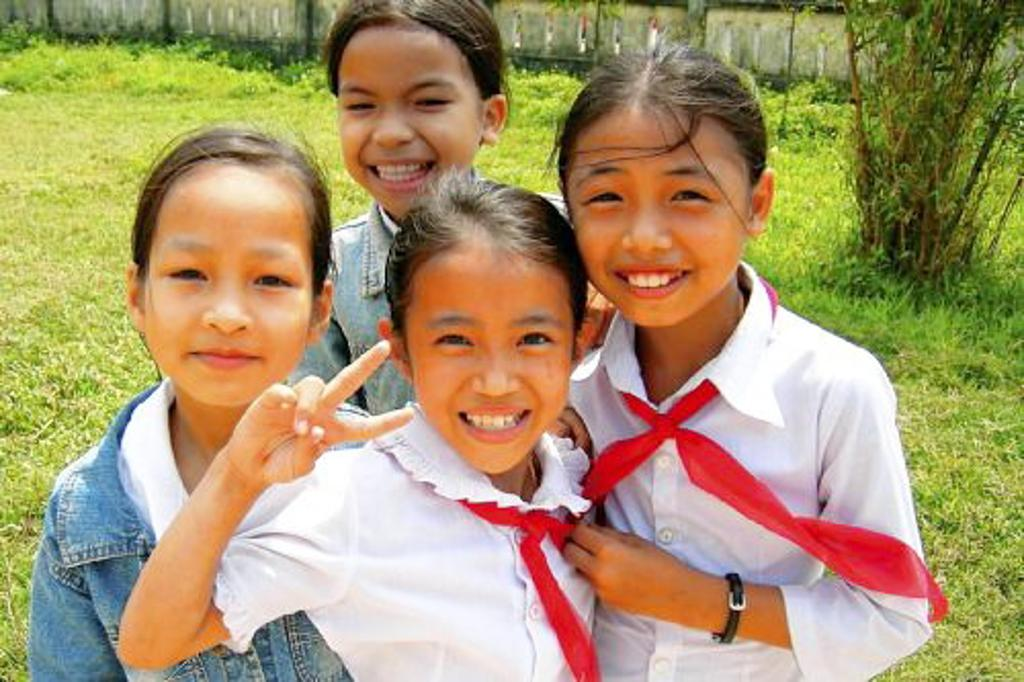face: (148, 160, 312, 406), (570, 110, 746, 326), (410, 252, 574, 472), (340, 26, 482, 216)
